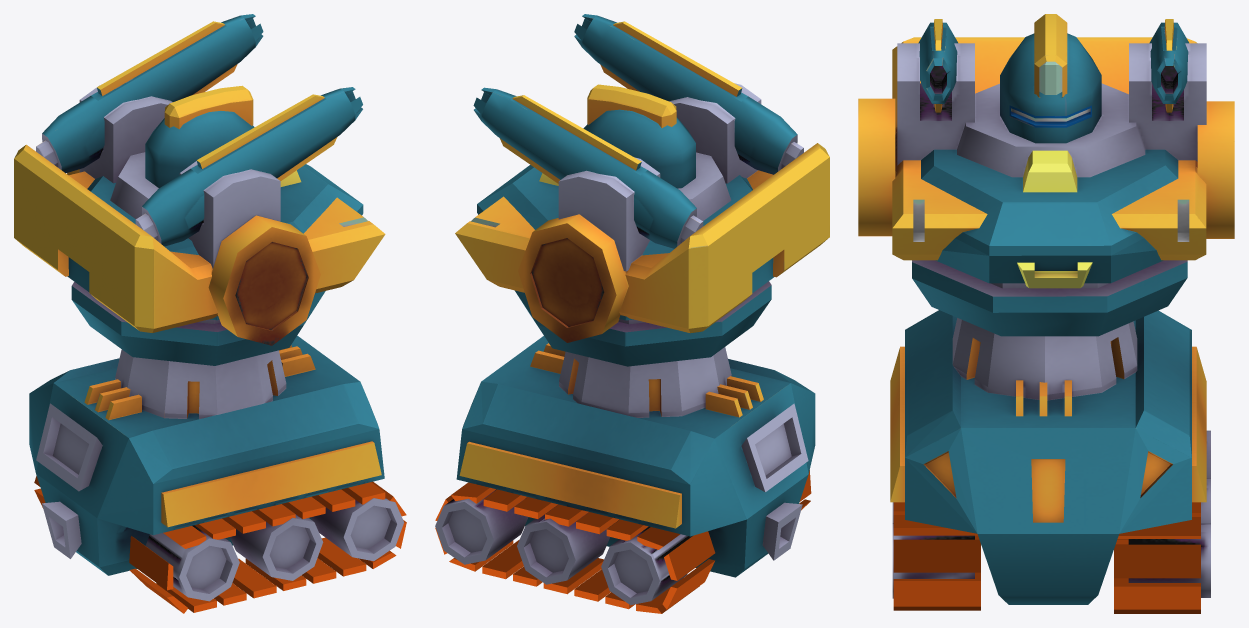
File: Player_Idle8.obj
The picture shows the model from 3 angles, left to right: view 1: azimuth 30°, elevation 25°; view 2: azimuth 150°, elevation 25°; view 3: azimuth 270°, elevation 25°; orthographic projection. The views are drawn at different scales.
Parts seen in each view (by area): view 1: Object004, Object008, Object014, Box009, Box017; view 2: Object004, Object008, Object014, Box009, Box016; view 3: Object004, Object008, Box016, Box017, Object014, Box009.
Boxes of the visible parts, box(x1,y1,x2,y2) form: Object004: box(14, 85, 385, 365); Object008: box(29, 335, 384, 575); Object014: box(36, 14, 362, 246); Box009: box(145, 498, 404, 601); Box017: box(129, 481, 406, 613); Object004: box(455, 83, 829, 366); Object008: box(456, 336, 815, 577); Object014: box(473, 14, 803, 248); Box009: box(435, 489, 689, 605); Box016: box(435, 482, 715, 613); Object004: box(858, 14, 1234, 336); Object008: box(890, 310, 1206, 604); Box016: box(1114, 502, 1200, 613); Box017: box(893, 502, 980, 610); Object014: box(918, 19, 1188, 112); Box009: box(892, 430, 1210, 598).
Size of the model in its own units: 54.79 by 83.73 by 52.49.
Materials: 2 (1 with a texture image).
